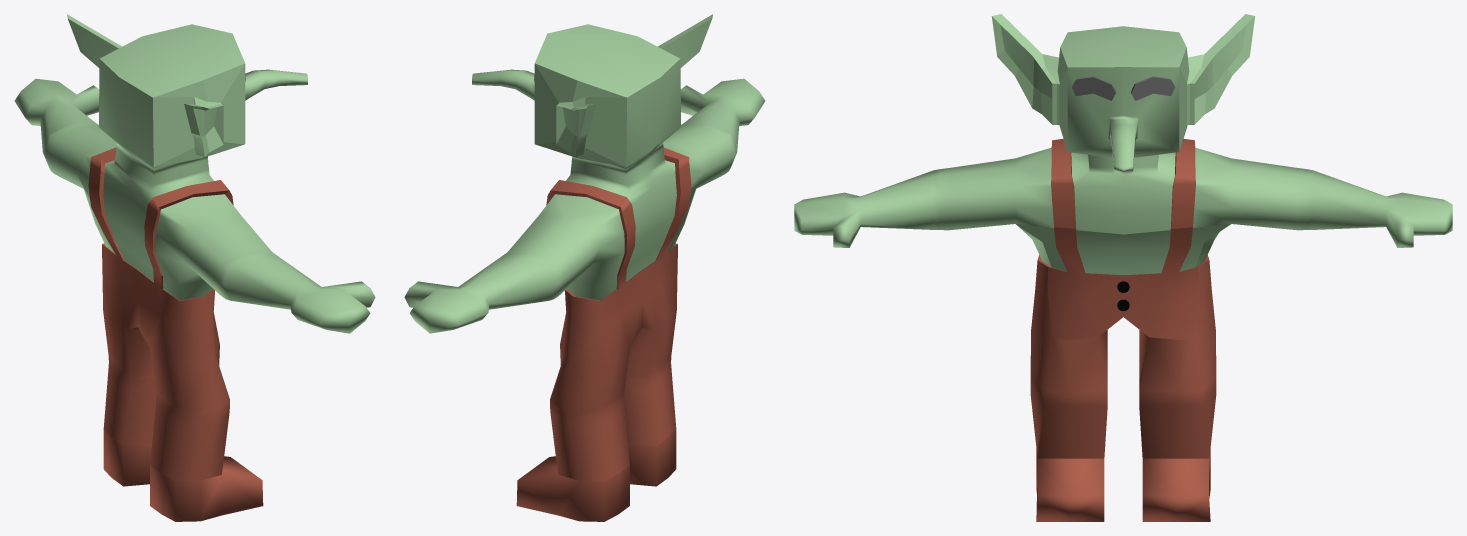
Rendered from Duende orejas.fbx.
The picture shows the model from 3 angles, left to right: view 1: azimuth 30°, elevation 25°; view 2: azimuth 150°, elevation 25°; view 3: azimuth 270°, elevation 25°; orthographic projection. The views are drawn at different scales.
Visible parts, largest first — view 1: polySurface7; view 2: polySurface7; view 3: polySurface7.
Boxes of the visible parts, x1,y1,x2,y2 form: polySurface7: (14, 14, 375, 521); polySurface7: (404, 14, 765, 521); polySurface7: (794, 14, 1452, 521).
Bounding box in the file's own units: 2.81 × 6.28 × 8.14.
